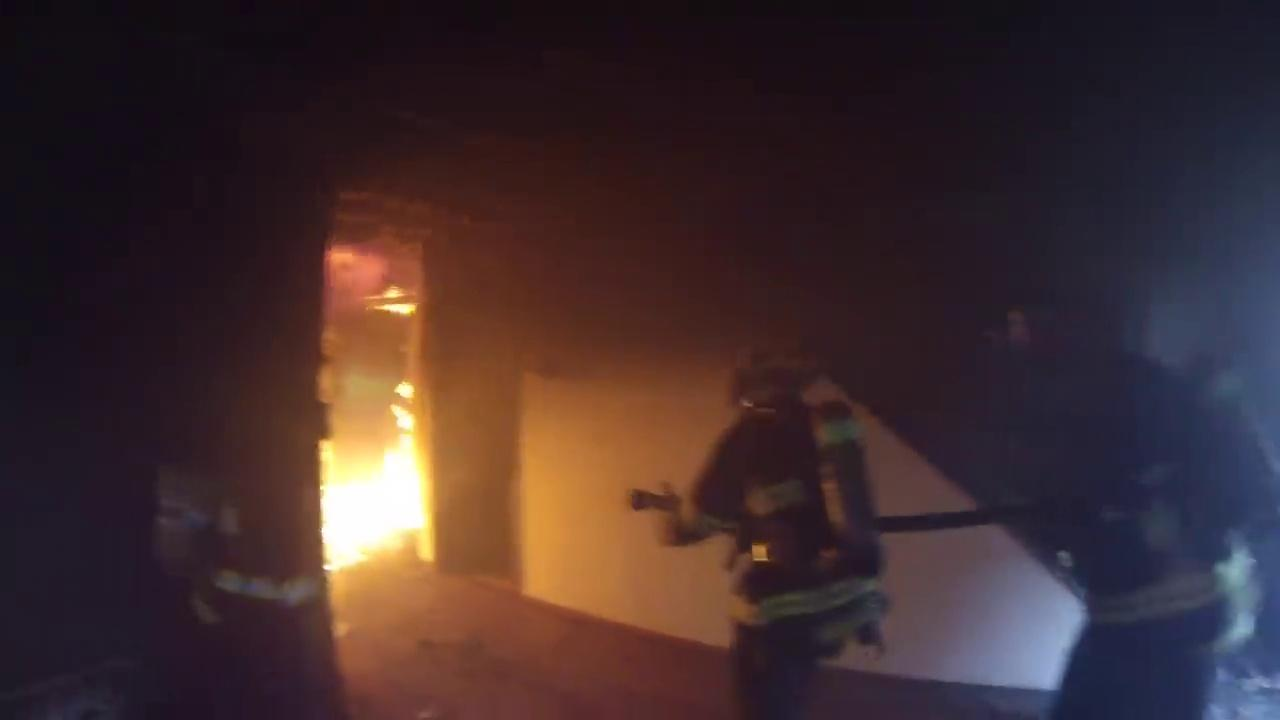Fire: (317, 376, 435, 573)
